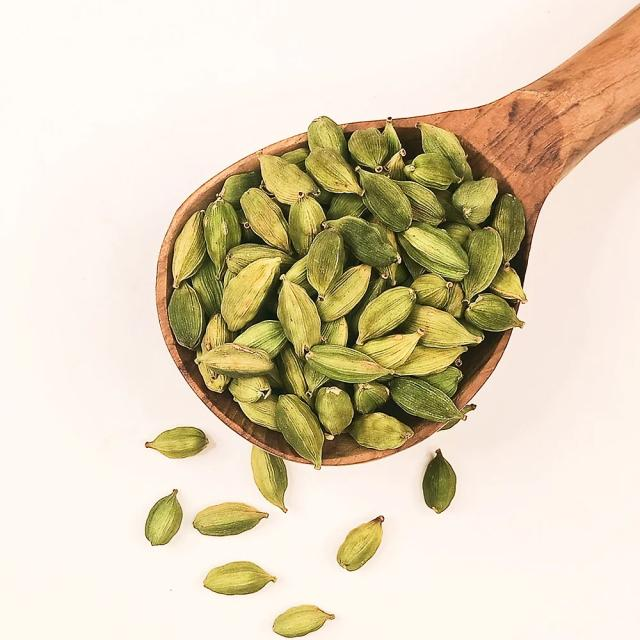Cardamom: (174, 115, 546, 456), (245, 442, 307, 516), (190, 494, 268, 544), (331, 510, 387, 578), (136, 483, 186, 554), (136, 424, 213, 466), (421, 444, 464, 514), (202, 557, 280, 595), (269, 603, 342, 640)
